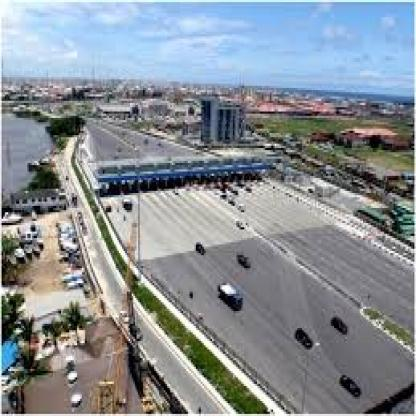car: (214, 278, 250, 323)
